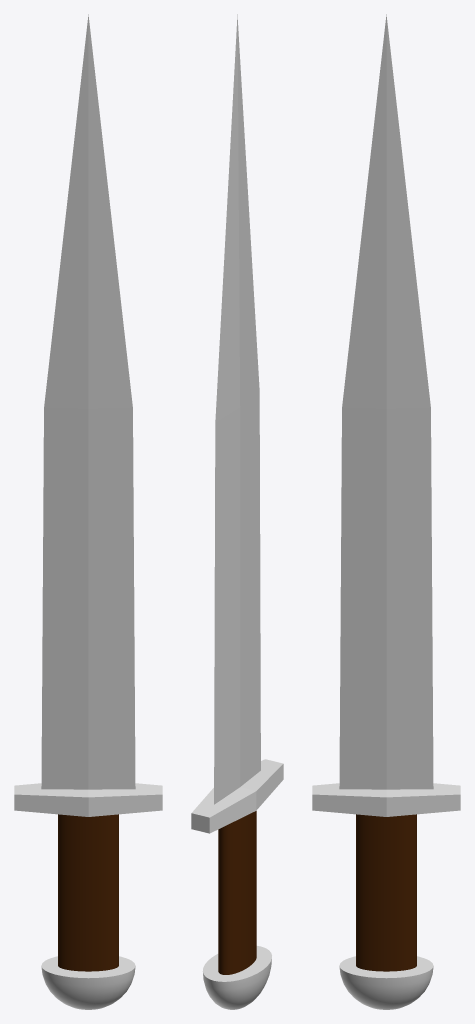
File: Меч.fbx
The picture shows the model from 3 angles, left to right: view 1: azimuth 90°, elevation 25°; view 2: azimuth 150°, elevation 25°; view 3: azimuth 270°, elevation 25°; orthographic projection.
Visible parts, largest first — view 1: Cube.001; view 2: Cube.001; view 3: Cube.001.
Part boxes in pixels (left/top/right/bottom): Cube.001: left=14, top=14, right=162, bottom=1009; Cube.001: left=191, top=14, right=283, bottom=1009; Cube.001: left=312, top=14, right=460, bottom=1009.
Bounding box in the file's own units: 126 × 2329 × 314.
